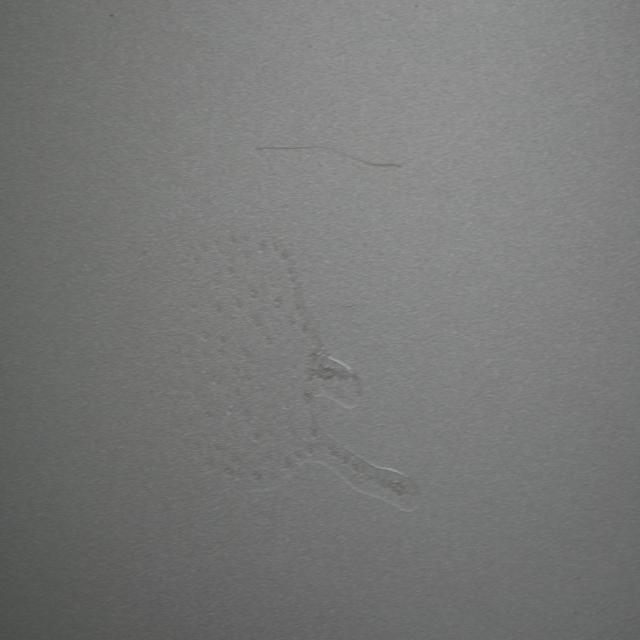runs: (192, 207, 413, 510)
scratch: (250, 135, 414, 176)
